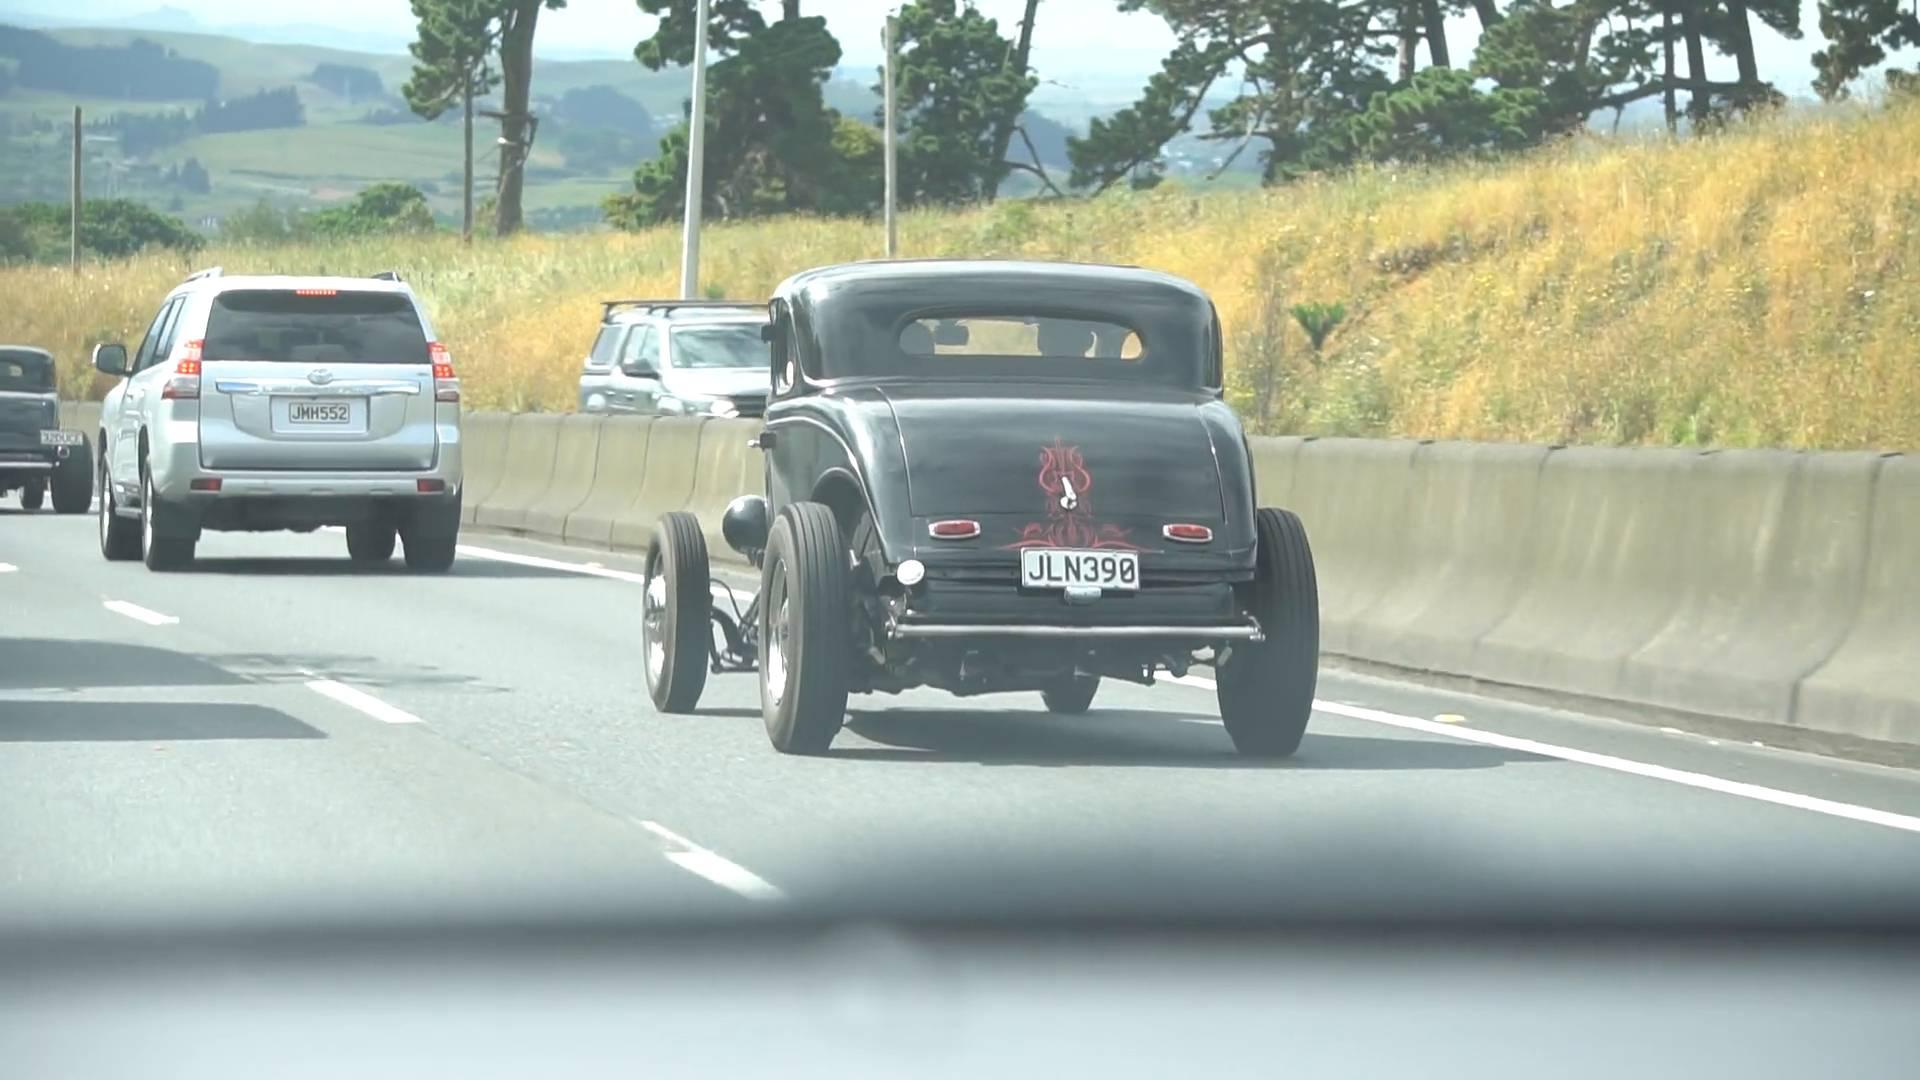car: (635, 246, 1322, 753), (84, 263, 464, 572)
license_plate: (1022, 542, 1142, 589), (287, 397, 352, 421)
